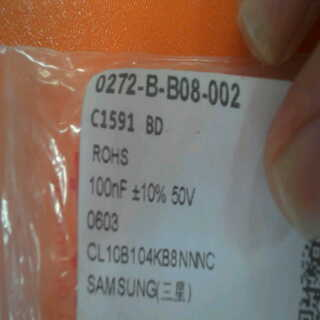100nF: (85, 171, 128, 206)
